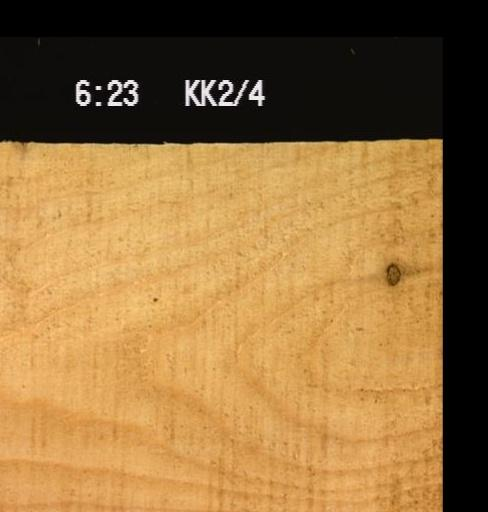dry_knot: (382, 260, 401, 289)
